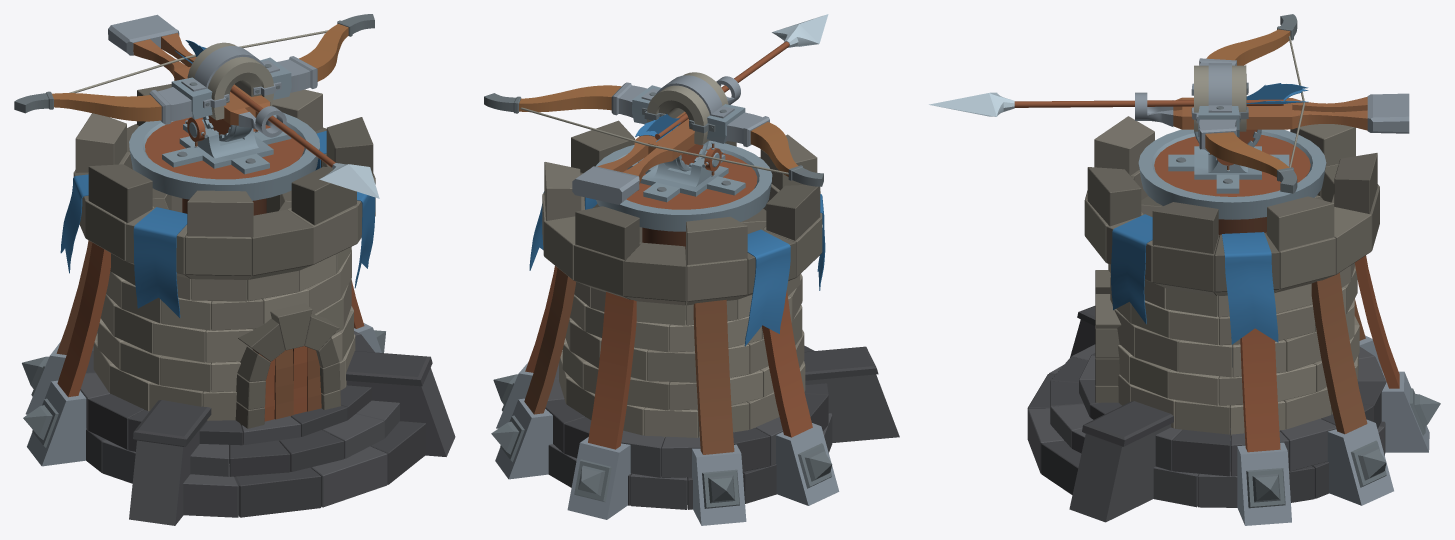
Rendered from archer towe1 1.fbx.
The picture shows the model from 3 angles, left to right: view 1: azimuth 30°, elevation 25°; view 2: azimuth 150°, elevation 25°; view 3: azimuth 270°, elevation 25°; orthographic projection. The views are drawn at different scales.
Parts seen in each view (by area): view 1: Cube.001, Plane.003, Cylinder.002, Plane.004, Cylinder.001, Vert.001; view 2: Cube.001, Plane.003, Cylinder.002, Plane.004, Vert.001; view 3: Cube.001, Plane.003, Cylinder.002, Plane.004, Cylinder.001.
Part boxes in pixels (x1,y1,x2,y2): Cube.001: [22, 84, 455, 525]; Plane.003: [14, 14, 374, 124]; Cylinder.002: [108, 14, 270, 141]; Plane.004: [175, 40, 379, 198]; Cylinder.001: [238, 106, 286, 137]; Vert.001: [69, 30, 327, 93]; Cube.001: [491, 120, 899, 525]; Plane.003: [484, 72, 823, 186]; Cylinder.002: [572, 111, 708, 204]; Plane.004: [635, 14, 828, 141]; Vert.001: [520, 107, 788, 174]; Cube.001: [1027, 116, 1440, 525]; Plane.003: [1191, 14, 1297, 193]; Cylinder.002: [1173, 93, 1409, 151]; Plane.004: [929, 83, 1308, 116]; Cylinder.001: [1135, 92, 1173, 126].
Bounding box in the file's own units: 7.05 × 7.17 × 8.84.
